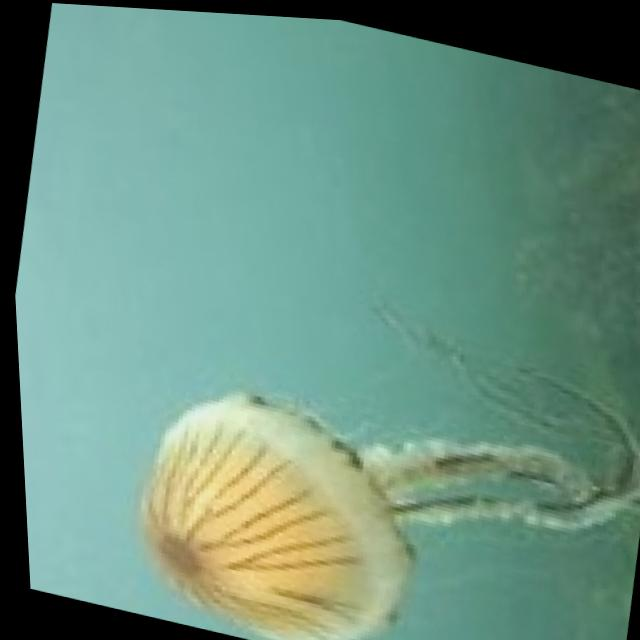Box-jellyfish: (102, 250, 640, 640)
